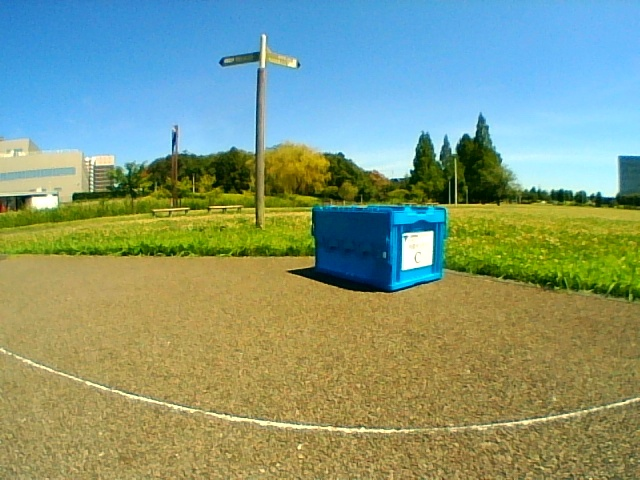blue_box: (314, 205, 444, 277)
tag_c: (403, 234, 431, 266)
